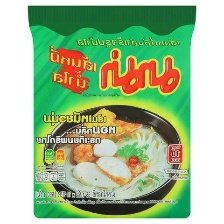snack: (20, 0, 204, 224)
